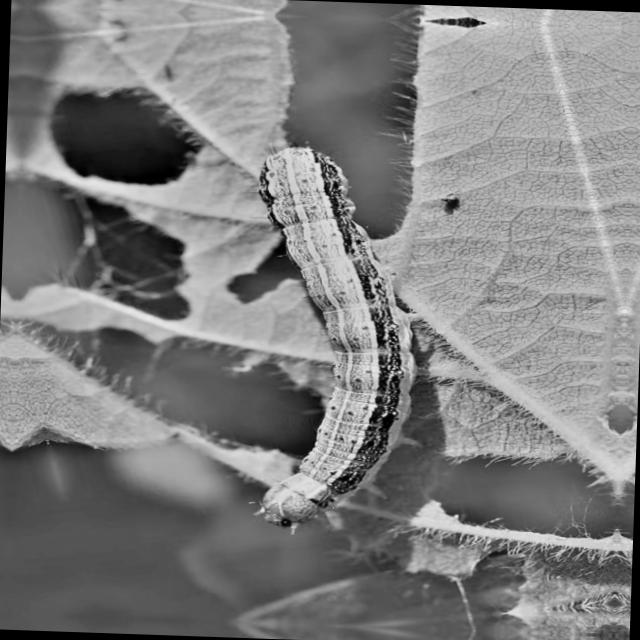Armyworm: (201, 142, 442, 534)
Armyworm_damage: (13, 74, 229, 191), (587, 394, 639, 452)
